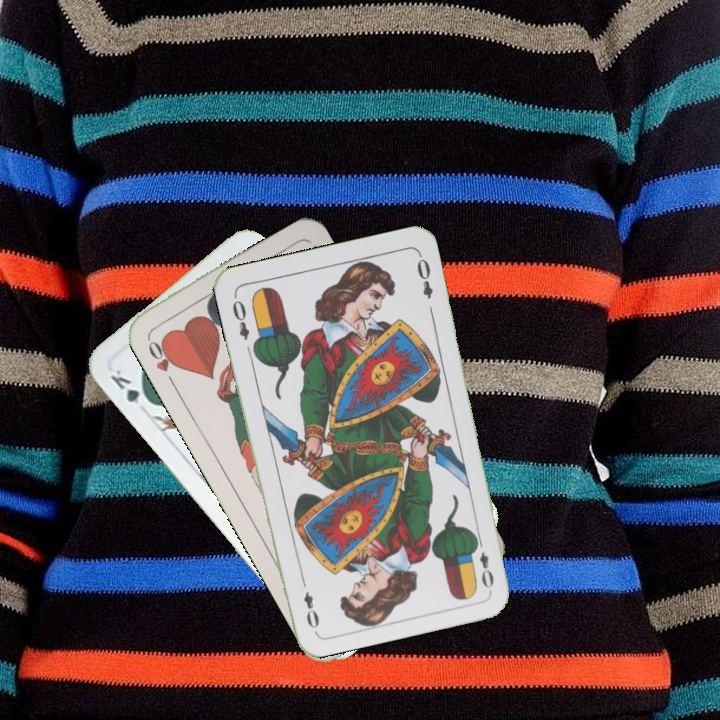EO: (470, 533, 497, 591), (228, 291, 252, 343)
GK: (106, 365, 155, 410)
HO: (143, 333, 182, 388)
